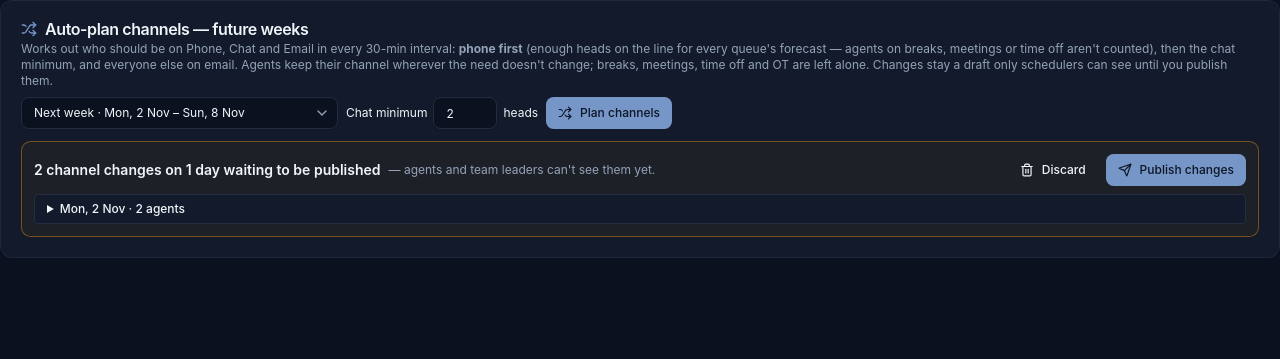
Test: auto-plan channels › shows waiting drafts and publishes them to agents
Expected: the text "2 channel changes on 1 day waiting to be published" is shown, [34,160,381,180]
Click the heading "Mon, 2 Nov · 2 agents" at (122, 208), box [60,201,185,216]
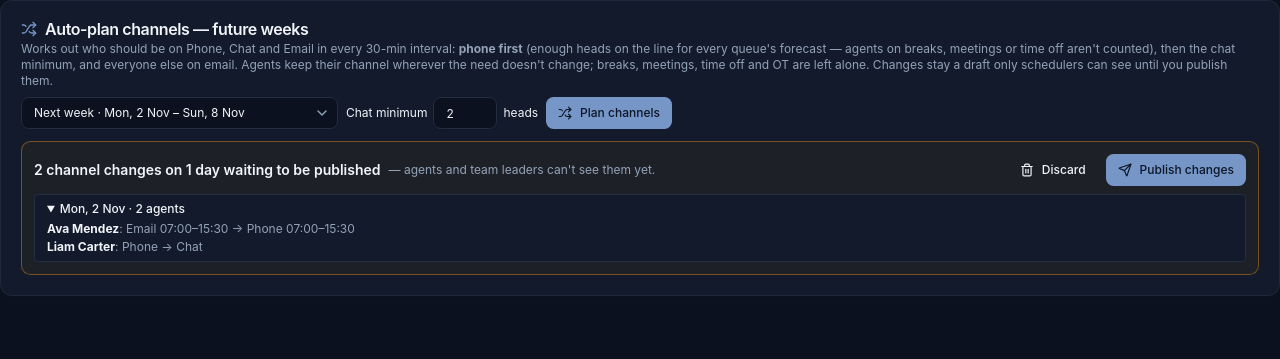
Expected: the text "Ava Mendez" is shown, [47,221,119,236]
Click the button "Publish changes" at (1176, 170), box [1106,154,1246,186]
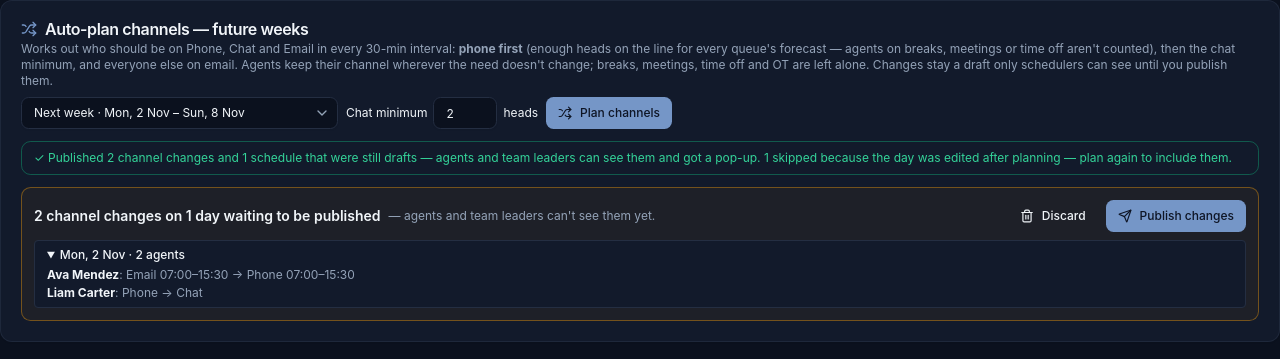
Expected: the text "1 skipped because the day was edited after planning" is shown, [48,150,1232,165]
